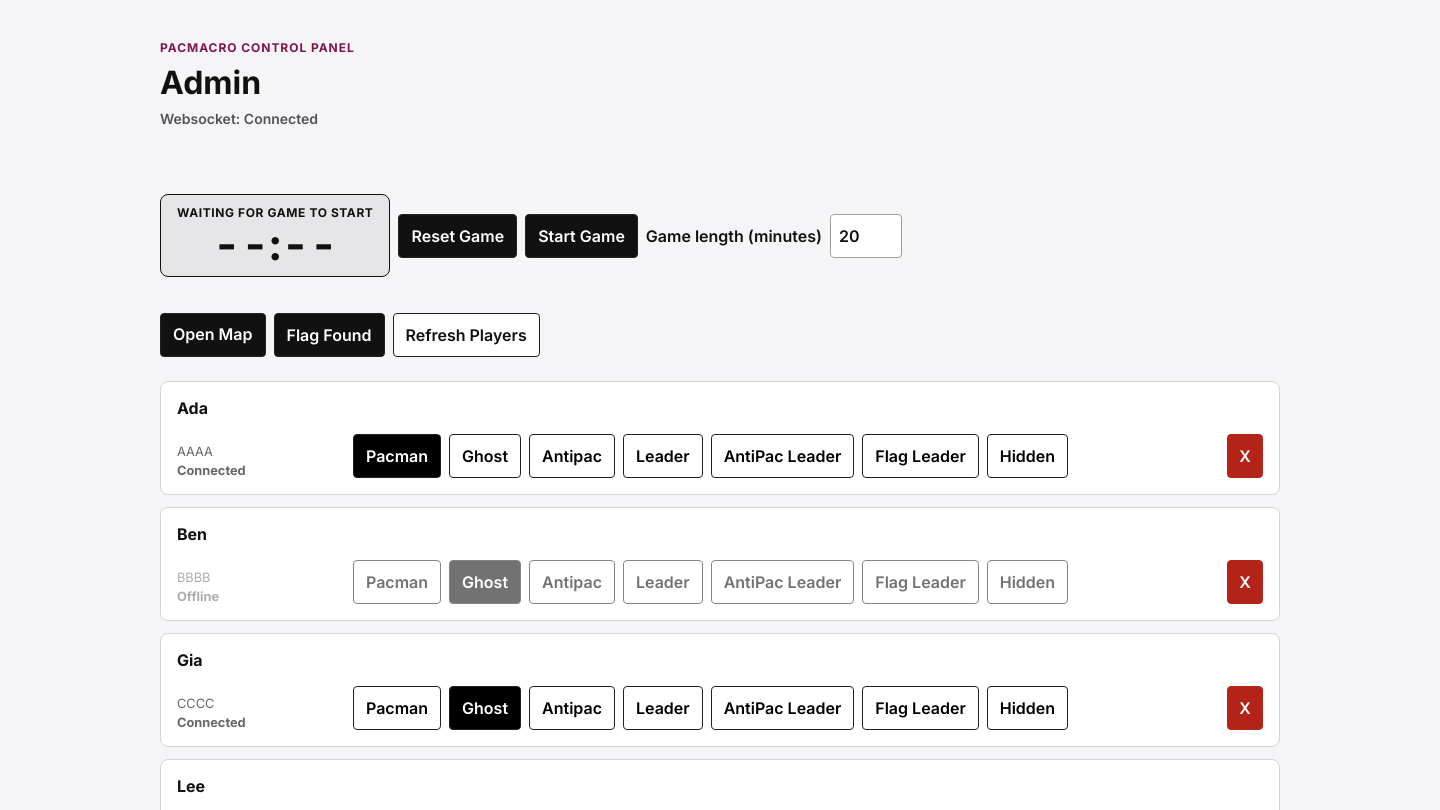
Test case: AdminPageComponent › rolls back a failed Admin flag update
This screenshot has width=1440, height=810.
Click the button "Flag Found".
click(329, 335)  # box top-left (274, 313), bottom-right (384, 357)
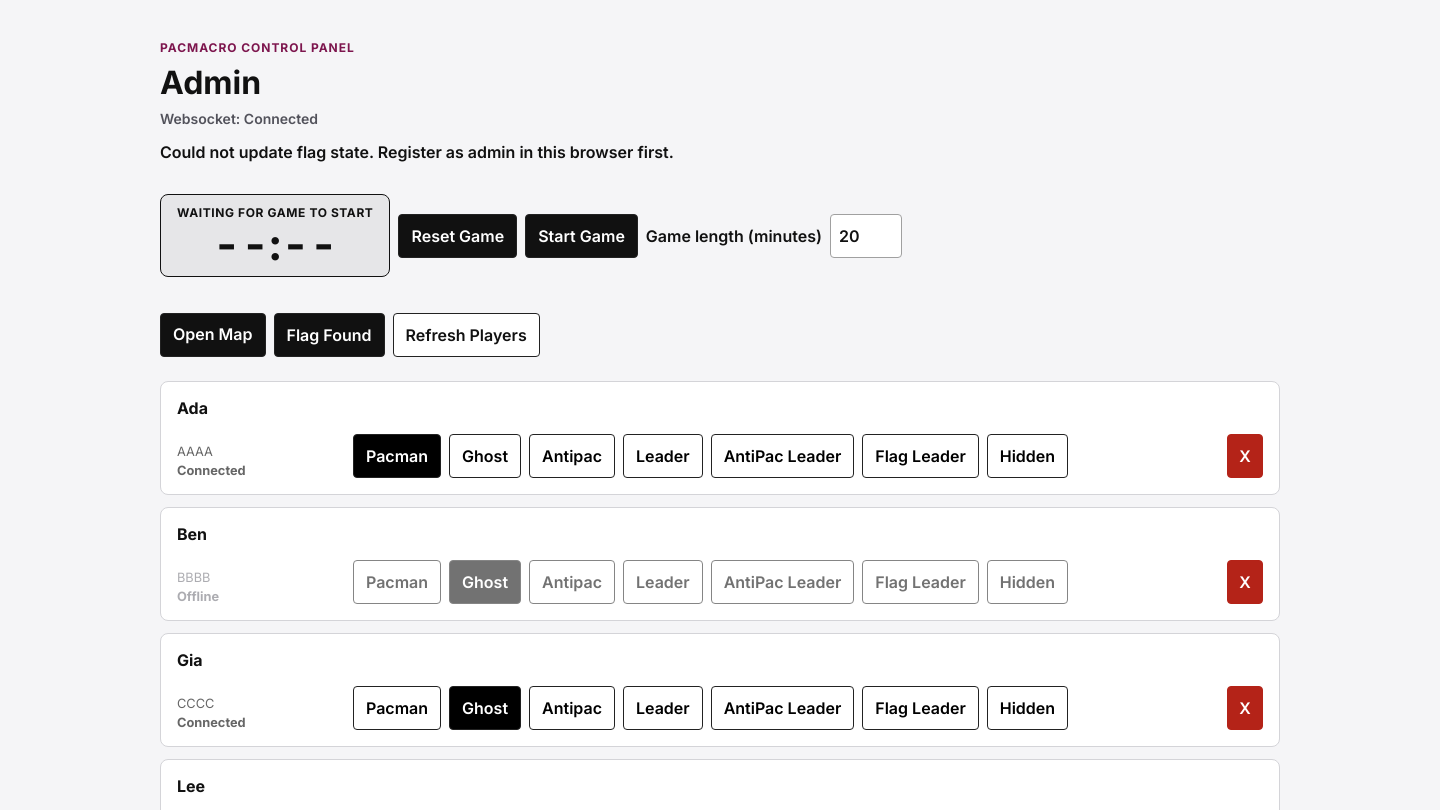
Expected: the message with class "admin-status" shows "Could not update flag state", top-left (160, 142), bottom-right (674, 162)
